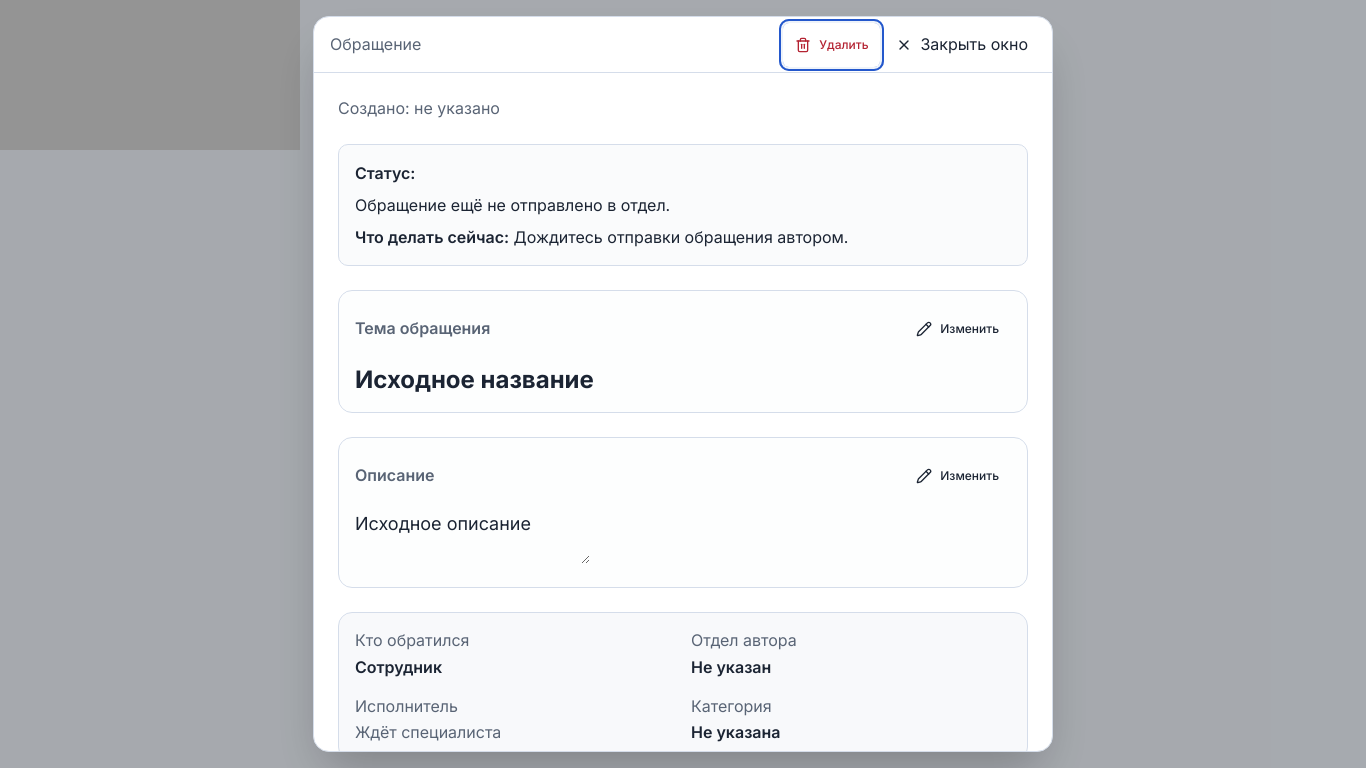
Scenario: preserves a dirty title and its original command baseline
Click the button with aria-label "Изменить тему обращения" at [958, 329], box [904,307,1011,351]
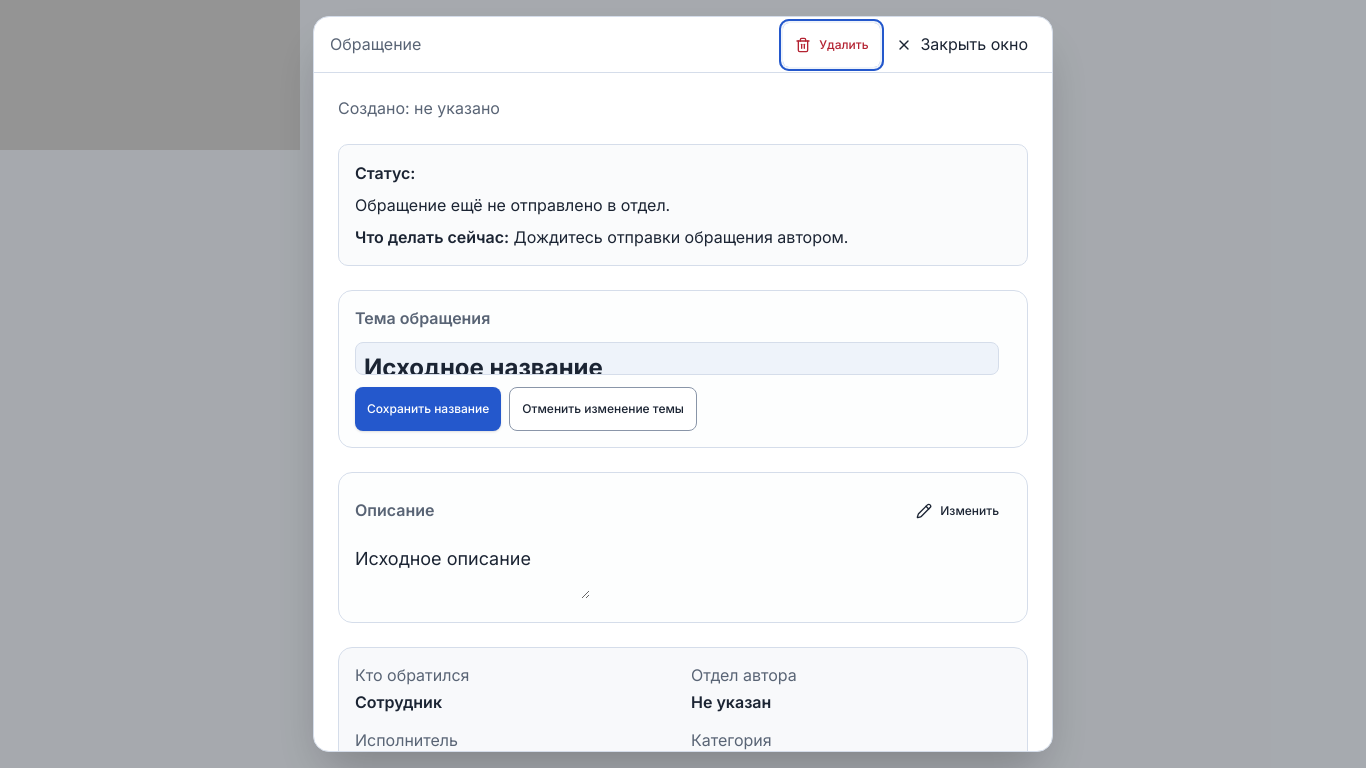
Replace the text in the text box labelled "Тема обращения" with "Несохранённый текст" at [677, 358], box [355,342,999,375]
Wait 1200 ms
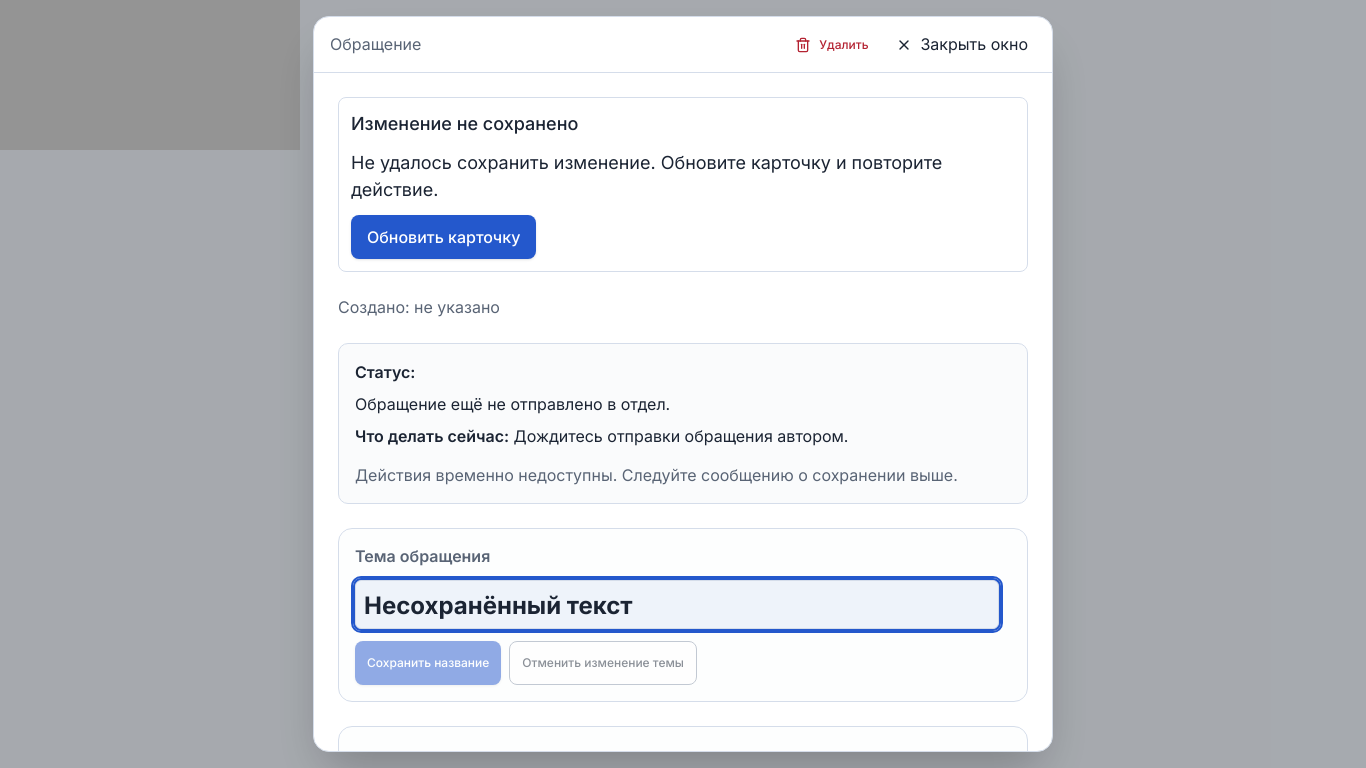
Expected: the button "Обновить карточку" is shown, [351,215,536,259]
